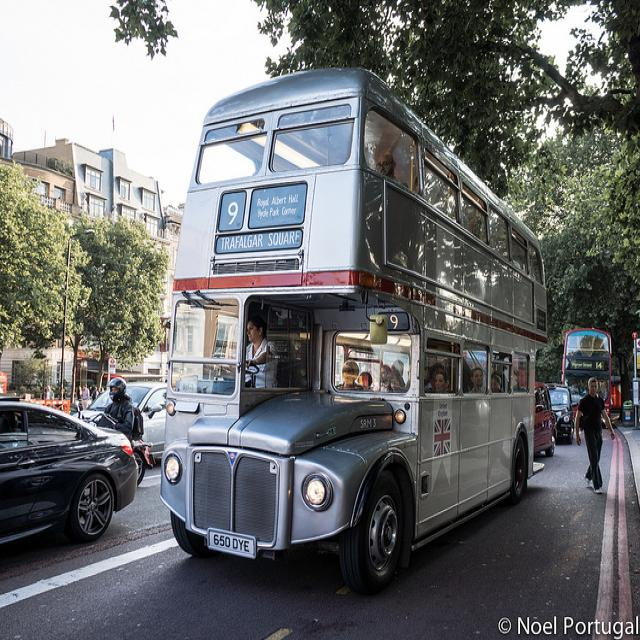motor: (74, 399, 155, 488)
